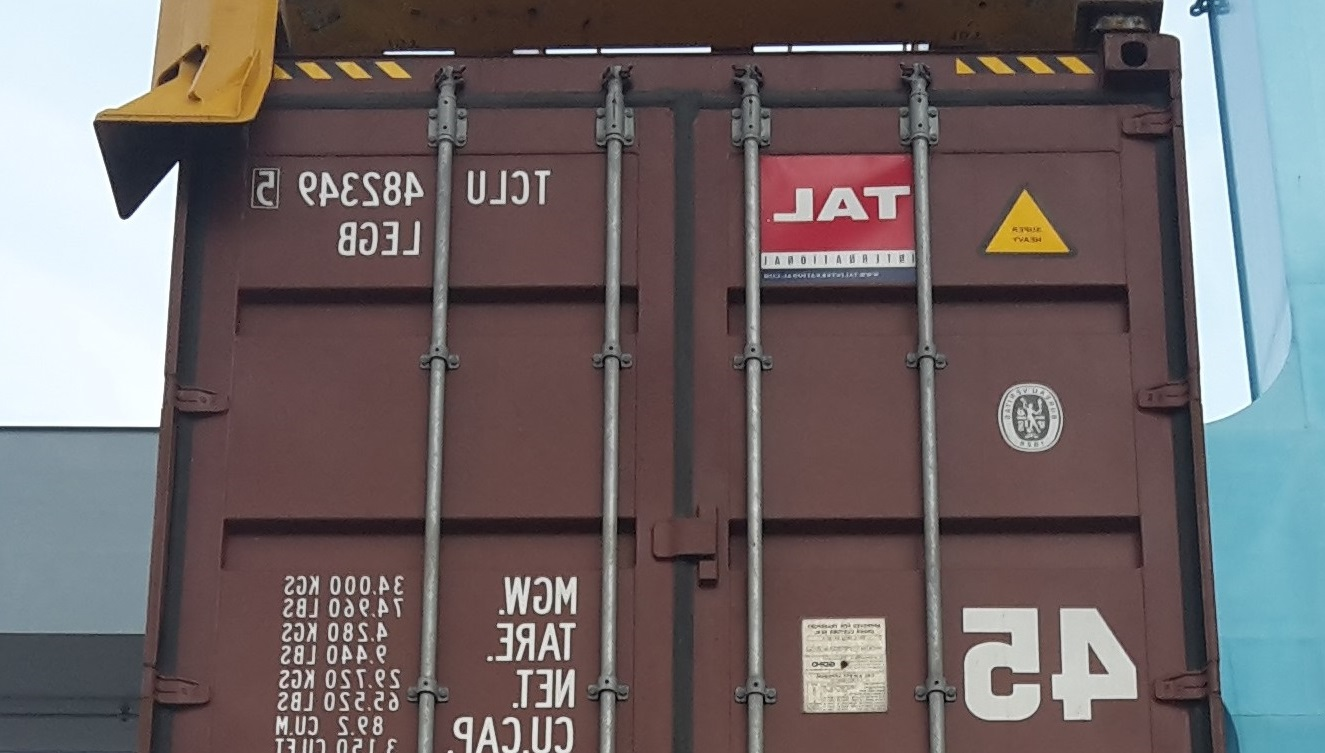container_door: (159, 43, 1230, 752)
